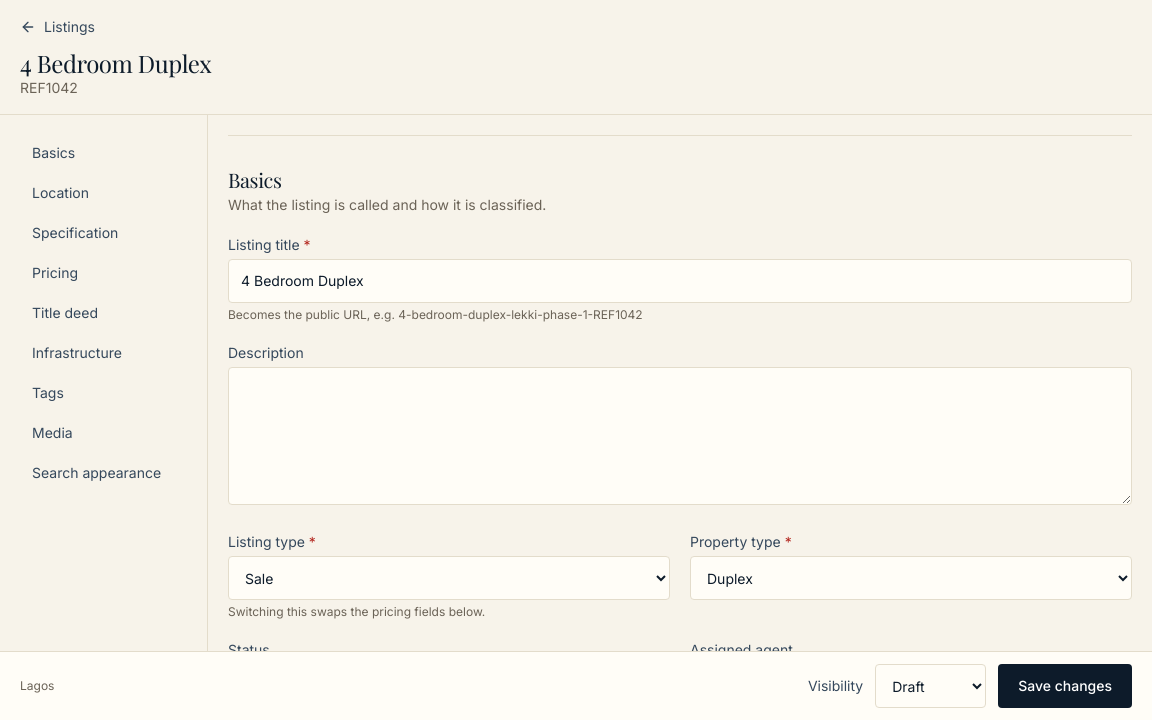
it: PropertyForm › shows a server message with no matching field in the banner
Click the button "Save changes": (1065, 686) [998, 664, 1132, 708]
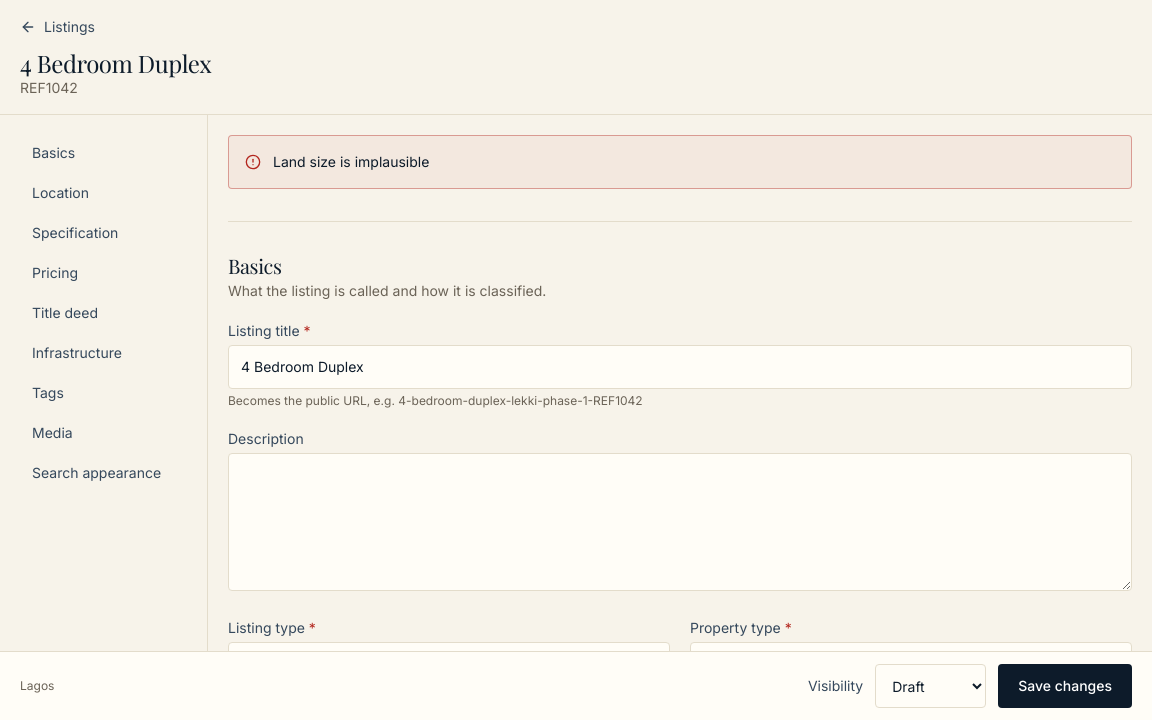
Expected: the message reads "Land size is implausible", [273, 153, 429, 170]
